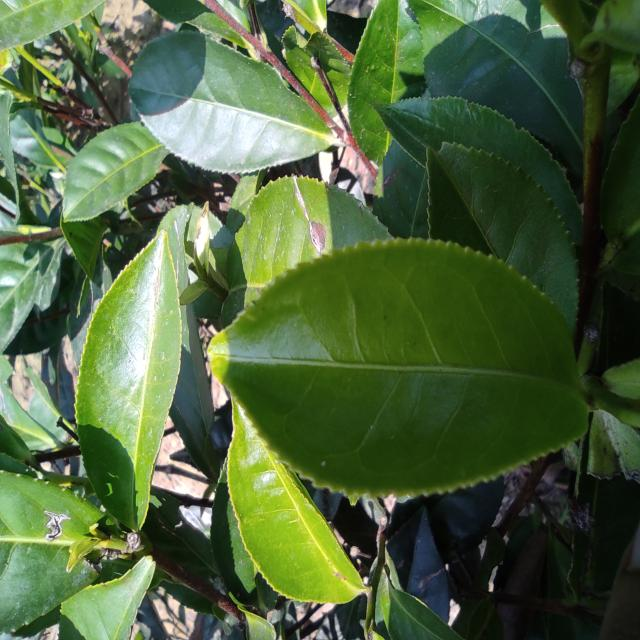Category C(4-7 days): (186, 220, 604, 510)
